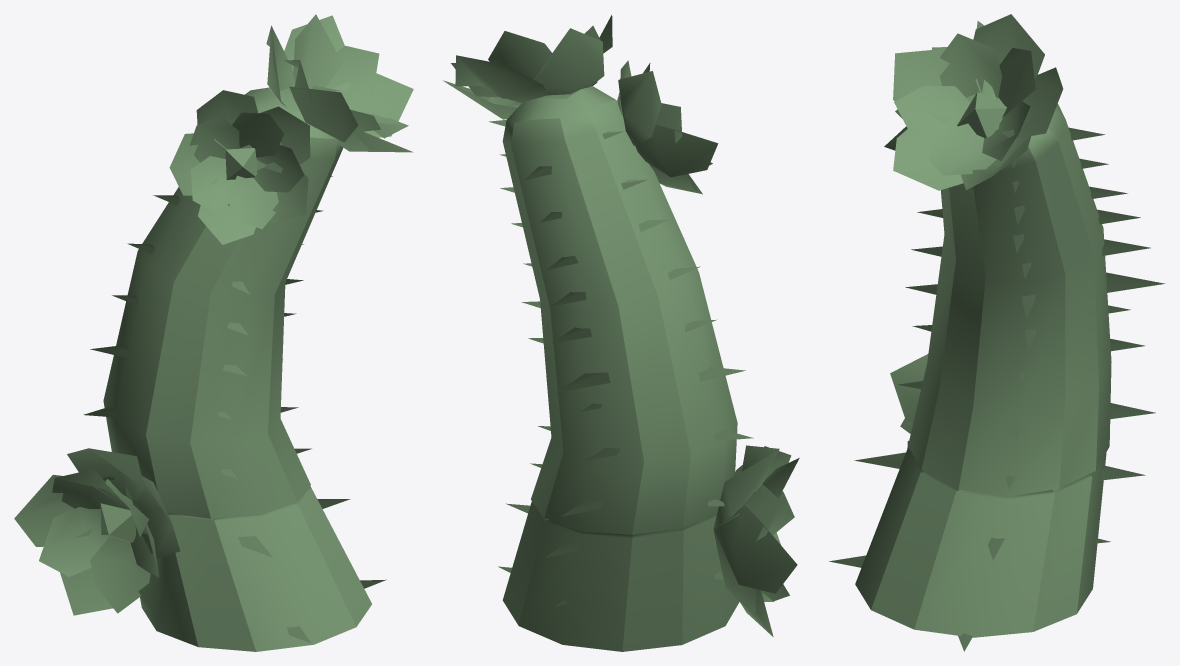
File: Cactus_6.fbx
The picture shows the model from 3 angles, left to right: view 1: azimuth 30°, elevation 25°; view 2: azimuth 150°, elevation 25°; view 3: azimuth 270°, elevation 25°; orthographic projection. The views are drawn at different scales.
Visible parts, largest first — view 1: cactus_, flower4, flower3, flower2; view 2: cactus_, flower4, flower2, flower3; view 3: cactus_, flower2, flower4.
Part boxes in pixels (bbox=[...]): cactus_: bbox=[83, 77, 386, 651]; flower4: bbox=[14, 448, 180, 618]; flower3: bbox=[169, 90, 310, 244]; flower2: bbox=[266, 14, 413, 152]; cactus_: bbox=[489, 86, 753, 651]; flower4: bbox=[713, 445, 799, 636]; flower2: bbox=[443, 15, 612, 119]; flower3: bbox=[617, 60, 718, 194]; cactus_: bbox=[829, 79, 1165, 651]; flower2: bbox=[893, 14, 1063, 190]; flower4: bbox=[890, 354, 928, 448].
Bounding box in the file's own units: 0.7624 × 1.11 × 0.5691.
